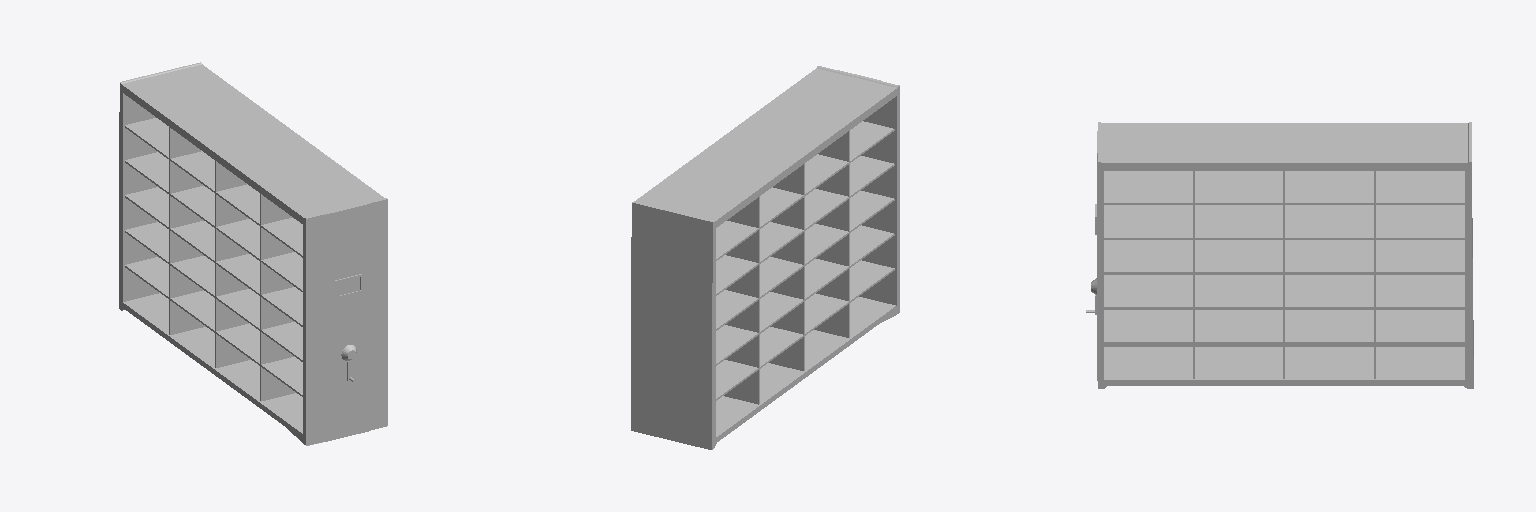
File: mjjcenter6-4.obj
3 views of the same model, side by side, from view 1: azimuth 30°, elevation 25°; view 2: azimuth 150°, elevation 25°; view 3: azimuth 270°, elevation 25° (orthographic).
Parts seen in each view (by area): view 1: mjj; view 2: mjj; view 3: mjj.
Boxes of the visible parts, x1,y1,x2,y2 form: mjj: [119, 62, 387, 445]; mjj: [631, 66, 899, 449]; mjj: [1097, 122, 1473, 388].
Size of the model in its own units: 35.44 by 94.93 by 147.